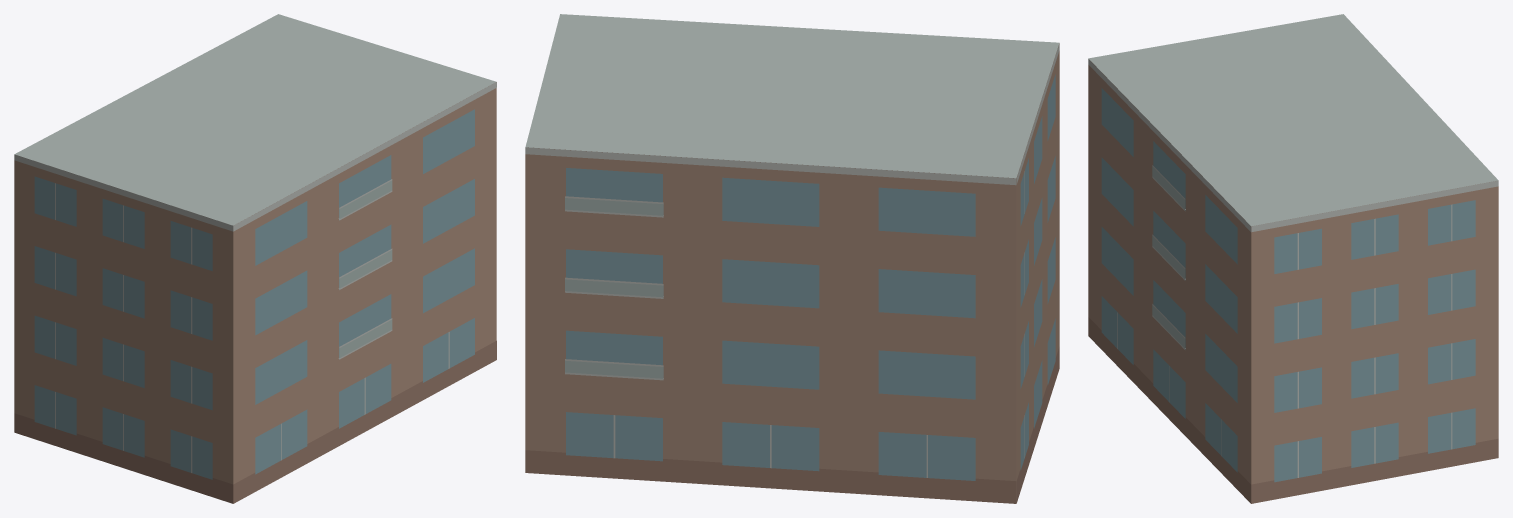
The model's file is survey-upis-33040150.glb.
3 renders of one model, left to right at view 1: azimuth 30°, elevation 25°; view 2: azimuth 150°, elevation 25°; view 3: azimuth 270°, elevation 25°, orthographic. The views are drawn at different scales.
Parts seen in each view (by area): view 1: survey-upis-33040150.tmp; view 2: survey-upis-33040150.tmp; view 3: survey-upis-33040150.tmp.
Boxes of the visible parts, bbox=[...] form: survey-upis-33040150.tmp: bbox=[14, 14, 496, 503]; survey-upis-33040150.tmp: bbox=[525, 14, 1059, 503]; survey-upis-33040150.tmp: bbox=[1088, 14, 1498, 503].
Bounding box in the file's own units: 18.71 × 11.4 × 15.29.
